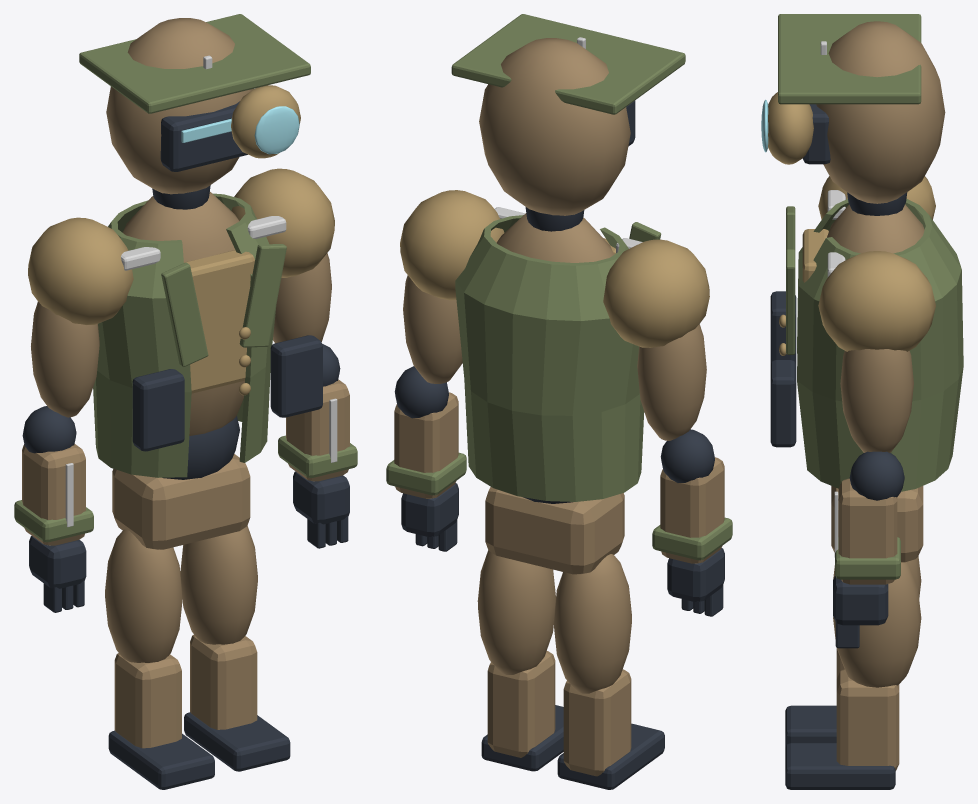
File: picker.glb
3 renders of one model, left to right at view 1: azimuth 30°, elevation 25°; view 2: azimuth 150°, elevation 25°; view 3: azimuth 270°, elevation 25°, orthographic.
Parts seen in each view (by area): view 1: Curator expedition vest, Helmet, Curator expedition brim, Pelvis, Shoulder R, Thigh R, Thigh L, Sternum shield, Articulated thorax, Shoulder L, Upper arm R, Shin L (+23 smaller); view 2: Curator expedition vest, Helmet, Curator expedition brim, Pelvis, Shoulder R, Thigh R, Thigh L, Shoulder L, Upper arm R, Shin R, Shin L, Upper arm L (+12 smaller); view 3: Curator expedition vest, Helmet, Shoulder L, Curator expedition brim, Upper arm L, Thigh L, Shin L, Bracer L, Foot L, Articulated thorax, Optical reading lens, Hand L (+13 smaller).
Part boxes in pixels (box(x1,y1,x2,y2)): Curator expedition vest: box(93, 193, 276, 477); Helmet: box(106, 18, 254, 194); Curator expedition brim: box(79, 14, 310, 113); Pelvis: box(112, 454, 250, 549); Shoulder R: box(28, 217, 133, 324); Thigh R: box(105, 529, 182, 662); Thigh L: box(180, 526, 257, 644); Sternum shield: box(184, 250, 254, 393); Articulated thorax: box(123, 192, 244, 435); Shoulder L: box(231, 168, 334, 277); Upper arm R: box(31, 301, 99, 417); Shin L: box(190, 634, 257, 729); Curator expedition vest: box(455, 215, 644, 501); Helmet: box(479, 38, 630, 215); Curator expedition brim: box(451, 14, 685, 114); Pelvis: box(485, 487, 624, 574); Shoulder R: box(603, 239, 709, 347); Thigh R: box(553, 554, 631, 693); Thigh L: box(477, 550, 555, 674); Shoulder L: box(400, 190, 504, 300); Upper arm R: box(637, 324, 706, 440); Shin R: box(563, 669, 631, 776); Shin L: box(487, 651, 555, 757); Upper arm L: box(403, 275, 462, 383); Curator expedition vest: box(797, 198, 963, 491); Helmet: box(816, 21, 945, 203); Shoulder L: box(818, 251, 935, 351); Curator expedition brim: box(778, 14, 921, 104); Upper arm L: box(840, 349, 913, 452); Thigh L: box(833, 562, 921, 687); Shin L: box(836, 669, 899, 770); Bracer L: box(838, 478, 897, 584); Foot L: box(785, 743, 895, 789); Articulated thorax: box(827, 204, 924, 253); Optical reading lens: box(768, 92, 813, 164); Hand L: box(833, 575, 888, 625).
Size of the model in its own units: 1 by 2.2 by 0.55.
